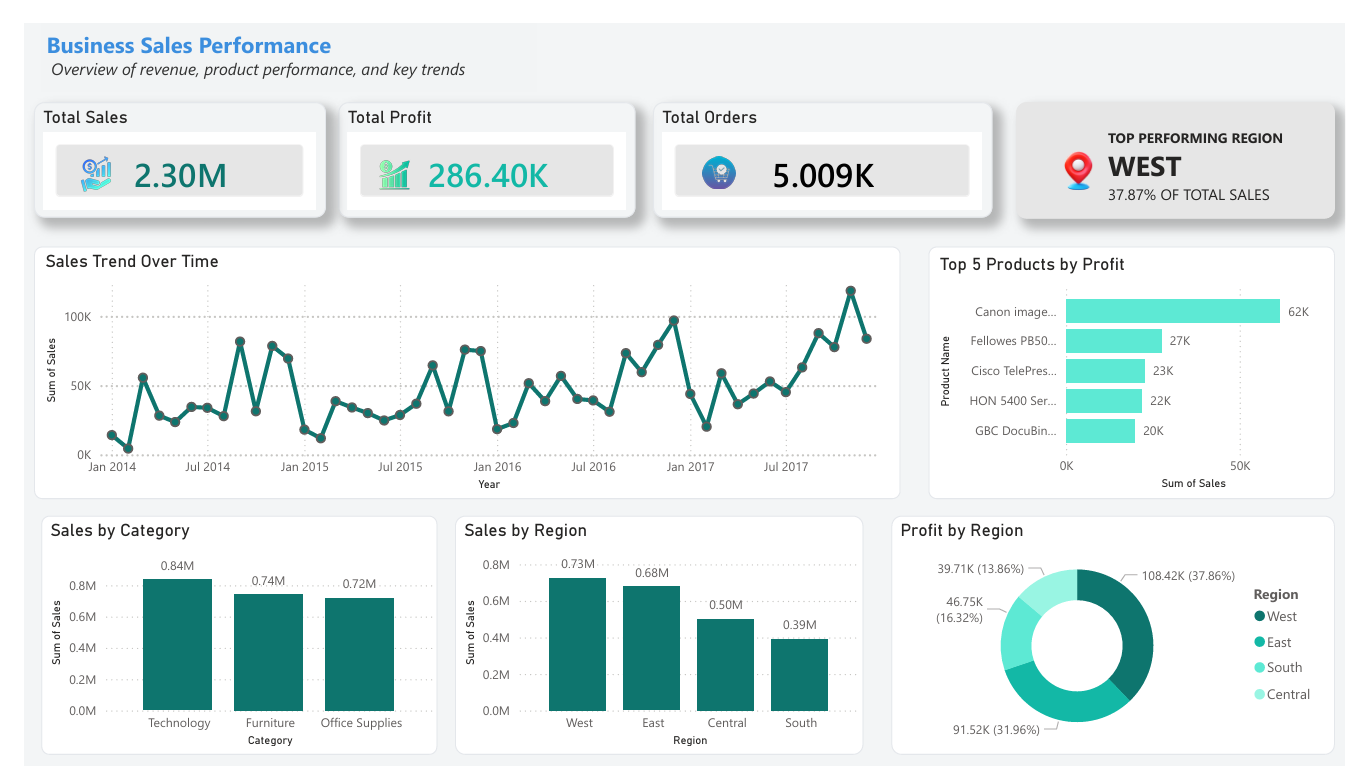

What the dashboard file says about the page in this screenshot:
{"tool":"powerbi","page":{"name":"Page 1","canvas":[1280,720],"ordinal":0},"visuals":[{"type":"cardVisual","title":"Total Profit","fields":{"Data":["Sum(Sample - Superstore.Profit)"]},"box":[303.8,75.6,288.6,112.9],"z":0},{"type":"cardVisual","title":"Total Orders","fields":{"Data":["Count(Sample - Superstore.Order ID)"]},"box":[609.5,75.6,328.6,112.9],"z":1000},{"type":"lineChart","title":"Sales Trend Over Time","fields":{"Y":["Sum(Sample - Superstore.Sales)"],"Category":["Sample - Superstore.Order Date.Variation.Date Hierarchy.Year","Sample - Superstore.Order Date.Variation.Date Hierarchy.Month"]},"box":[9.5,215.6,840,245.7],"z":2000},{"type":"clusteredColumnChart","title":"Sales by Category","fields":{"Category":["Sample - Superstore.Category"],"Y":["Sum(Sample - Superstore.Sales)"]},"box":[15.7,477.1,384.3,231.4],"z":3000},{"type":"clusteredColumnChart","title":"Sales by Region","fields":{"Category":["Sample - Superstore.Region"],"Y":["Sum(Sample - Superstore.Sales)"]},"box":[417.1,477.1,395.7,231.4],"z":4000},{"type":"donutChart","title":"Profit by Region","fields":{"Category":["Sample - Superstore.Region"],"Y":["Sum(Sample - Superstore.Profit)"]},"box":[840,477.1,430,231.4],"z":5000},{"type":"clusteredBarChart","title":"Top 5 Products by Profit","fields":{"Y":["Sum(Sample - Superstore.Sales)"],"Category":["Sample - Superstore.Product Name"]},"box":[875.7,215.7,394.3,245.7],"z":6000},{"type":"cardVisual","title":"Total Sales","fields":{"Data":["Sum(Sample - Superstore.Sales)"]},"box":[9.5,75.6,282.9,112.9],"z":7000},{"type":"image","box":[47.1,128.6,44.3,34.3],"z":8000},{"type":"image","box":[337.1,130,41.4,32.9],"z":9000},{"type":"image","box":[640,128.6,65.7,32.9],"z":10000},{"type":"textbox","box":[961.4,75.7,308.6,112.9],"z":11000},{"type":"image","box":[987.1,120,68.6,42.9],"z":12000},{"type":"textbox","box":[15.7,0,480,65.7],"z":13000}]}

Visuals, with their boxes in screenshot pixels (x1, y1, x2, y2), scaled from the page's 1280x720 canvas onto the 1366x781 screenshot:
"Total Profit" cardVisual: l=324, t=82, r=632, b=204
"Total Orders" cardVisual: l=650, t=82, r=1001, b=204
"Sales Trend Over Time" lineChart: l=10, t=234, r=907, b=500
"Sales by Category" clusteredColumnChart: l=17, t=518, r=427, b=769
"Sales by Region" clusteredColumnChart: l=445, t=518, r=867, b=769
"Profit by Region" donutChart: l=896, t=518, r=1355, b=769
"Top 5 Products by Profit" clusteredBarChart: l=935, t=234, r=1355, b=500
"Total Sales" cardVisual: l=10, t=82, r=312, b=204
image: l=50, t=139, r=98, b=177
image: l=360, t=141, r=404, b=177
image: l=683, t=139, r=753, b=175
textbox: l=1026, t=82, r=1355, b=205
image: l=1053, t=130, r=1127, b=177
textbox: l=17, t=0, r=529, b=71
